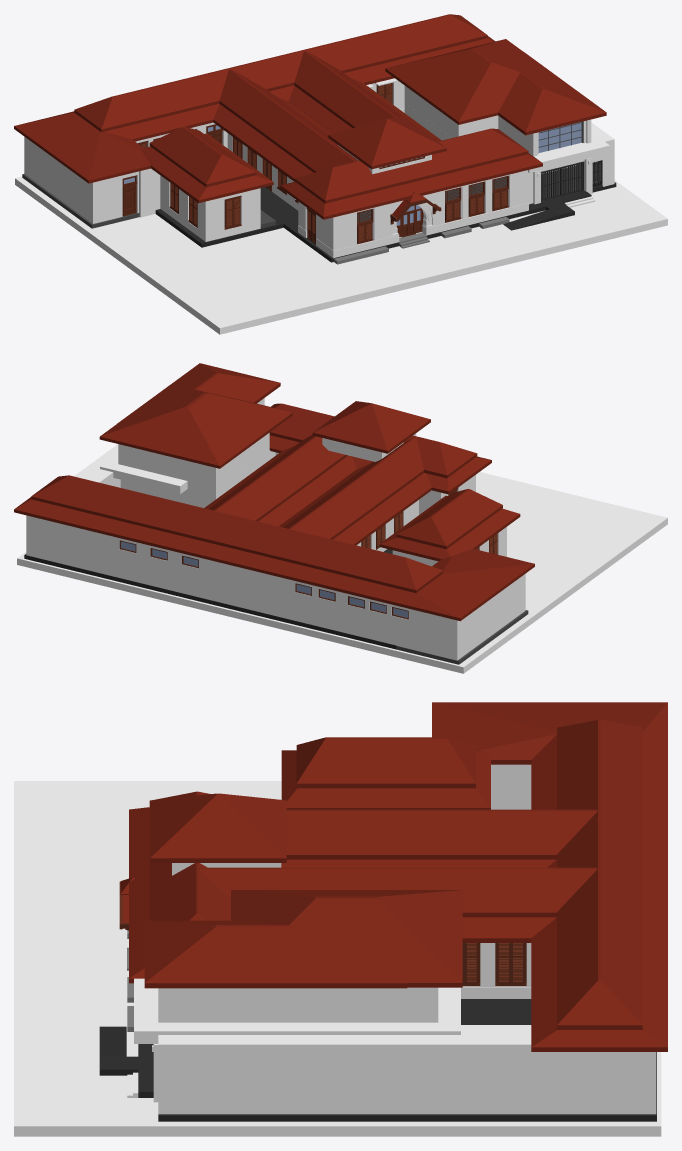
Rendered from Testing2_GIM.gltf.
3 views of the same model, one above another, from view 1: azimuth 30°, elevation 25°; view 2: azimuth 150°, elevation 25°; view 3: azimuth 270°, elevation 25° (orthographic). The views are drawn at different scales.
Visible parts, largest first — view 1: Cube016, Cube172, Cube177, Cube062, Cube170, Cube176, Cube031, Cube, Cube168, Cube106, Cube180, Cube175 (+25 smaller); view 2: Cube016, Cube172, Cube001, Cube177, Cube062, Cube173, Cube176, Cube106, Cube073, Cube180, Cube175, Cube031 (+13 smaller); view 3: Cube016, Cube049, Cube172, Cube177, Cube031, Cube173, Cube062, Cube004, Cube176, Cube175, Cube180, Cube045 (+11 smaller).
Boxes of the visible parts, box(x1,y1,x2,y2) form: Cube016: box(15, 176, 667, 334); Cube172: box(213, 51, 441, 181); Cube177: box(74, 14, 487, 132); Cube062: box(385, 39, 522, 124); Cube170: box(295, 128, 528, 203); Cube176: box(14, 111, 150, 183); Cube031: box(498, 51, 606, 135); Cube: box(298, 170, 528, 250); Cube168: box(280, 153, 542, 219); Cube106: box(24, 137, 138, 223); Cube180: box(328, 116, 446, 169); Cube175: box(149, 126, 256, 187); Cube016: box(17, 472, 667, 673); Cube172: box(204, 434, 431, 545); Cube001: box(34, 517, 412, 649); Cube177: box(31, 475, 443, 592); Cube062: box(99, 389, 292, 468); Cube173: box(14, 497, 417, 610); Cube176: box(388, 548, 534, 621); Cube106: box(413, 574, 525, 660); Cube073: box(135, 433, 269, 507); Cube180: box(312, 401, 430, 453); Cube175: box(396, 489, 502, 549); Cube031: box(117, 363, 280, 423); Cube016: box(14, 781, 661, 1136); Cube049: box(158, 1025, 656, 1114); Cube172: box(199, 809, 597, 942); Cube177: box(557, 720, 642, 1029); Cube031: box(144, 920, 407, 988); Cube173: box(531, 735, 667, 1051); Cube062: box(231, 890, 462, 987); Cube004: box(158, 987, 438, 1022); Cube176: box(432, 702, 667, 764); Cube175: box(296, 737, 475, 788); Cube180: box(150, 793, 286, 862); Cube045: box(134, 978, 460, 1043).
Size of the model in its own units: 16.85 by 4.02 by 13.46.
